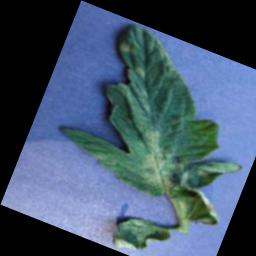Leaf_Mold: (127, 127, 192, 195)
